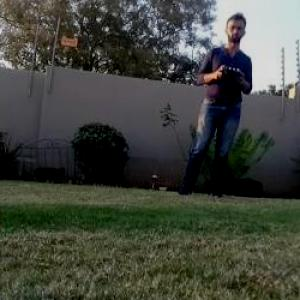follow: (169, 5, 256, 202)
